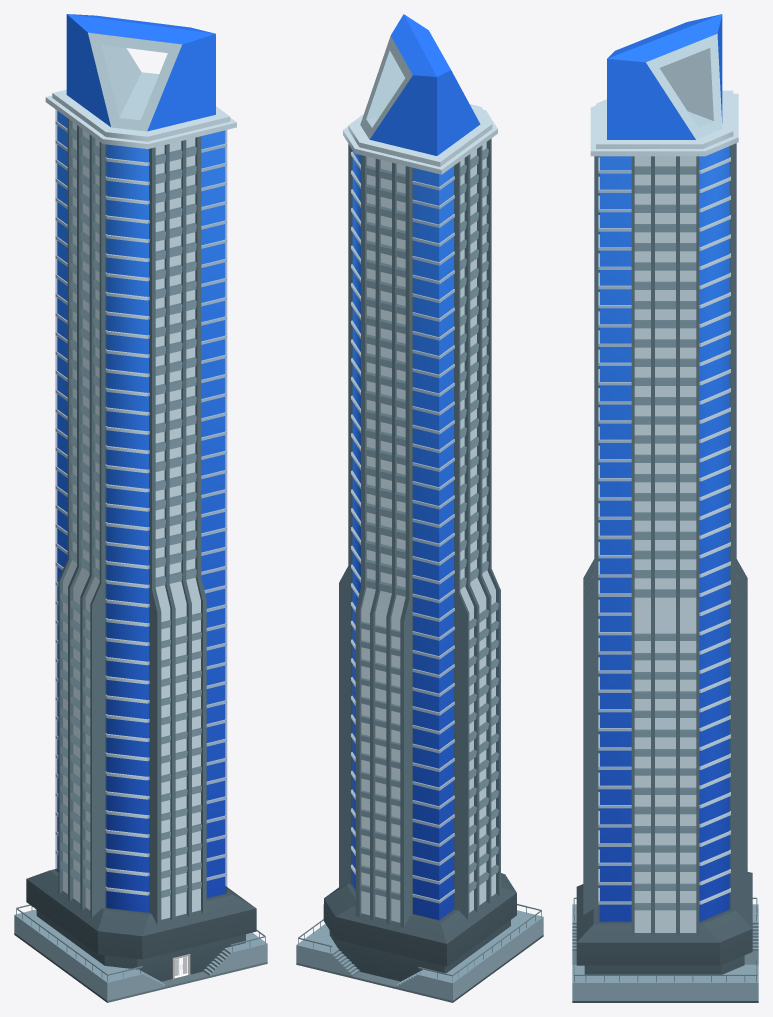
Rendered from Building_Skyscraper_01.glb.
3 views of the same model, side by side, from view 1: azimuth 30°, elevation 25°; view 2: azimuth 150°, elevation 25°; view 3: azimuth 270°, elevation 25° (orthographic). The views are drawn at different scales.
Parts seen in each view (by area): view 1: Building_Skyscraper_01; view 2: Building_Skyscraper_01; view 3: Building_Skyscraper_01.
Part boxes in pixels (bbox=[...]): Building_Skyscraper_01: bbox=[14, 14, 267, 1002]; Building_Skyscraper_01: bbox=[296, 14, 543, 1002]; Building_Skyscraper_01: bbox=[572, 14, 758, 1002].
Size of the model in its own units: 18.63 by 103 by 18.73.
2 materials, 2 textured.
